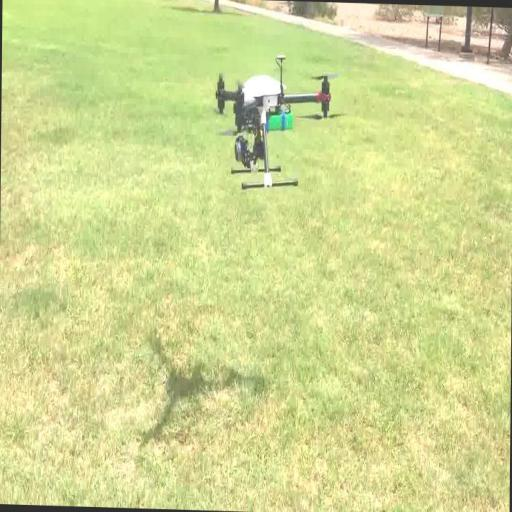drone: (214, 58, 334, 192)
